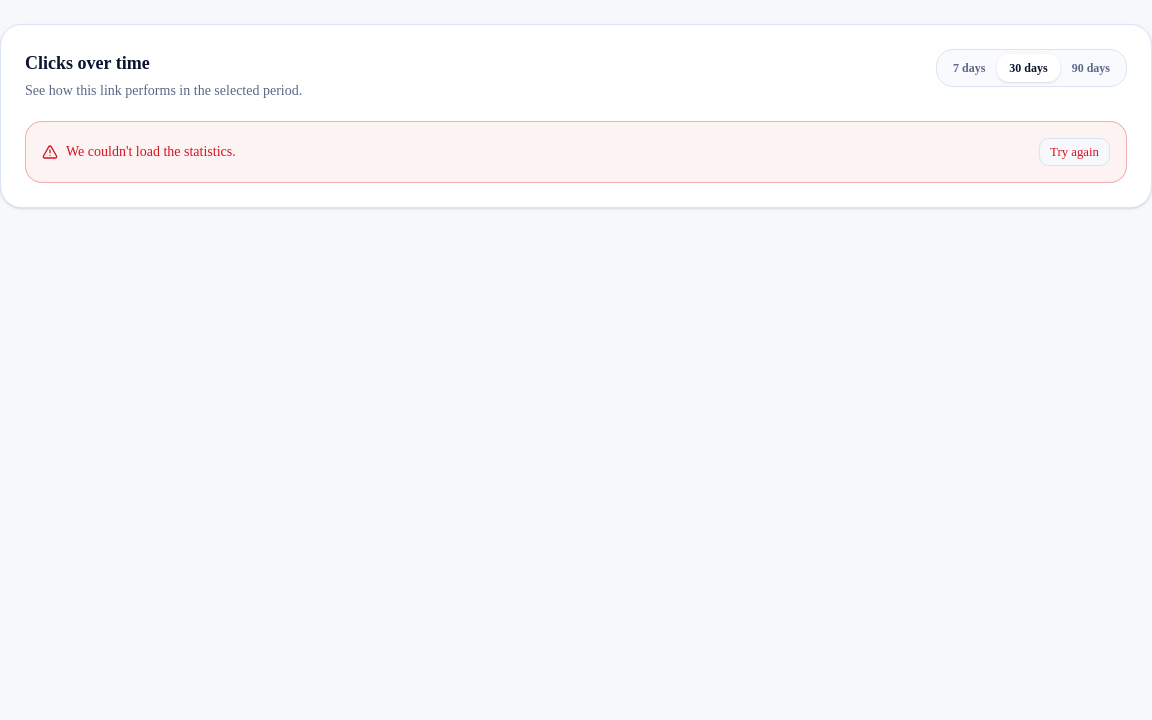
Scenario: LinkStatsPanel › shows an error with retry and reloads the selected period
Check: the message shows "We couldn't load the statistics.", box [66,144,236,159]
Click the button "Try again" at [1074, 152], box [1039,138,1110,166]
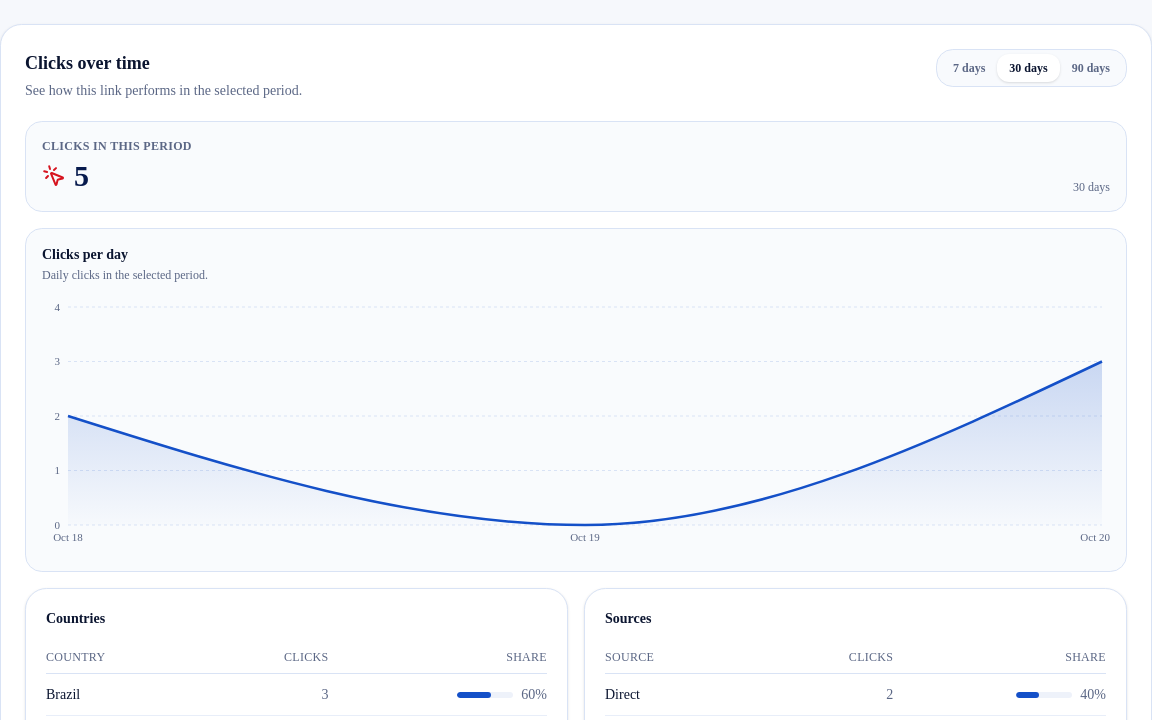
Check: the text "Clicks in this period" is shown, box [42,138,192,154]
Check: the message "We couldn't load the statistics. Try again" is gone
